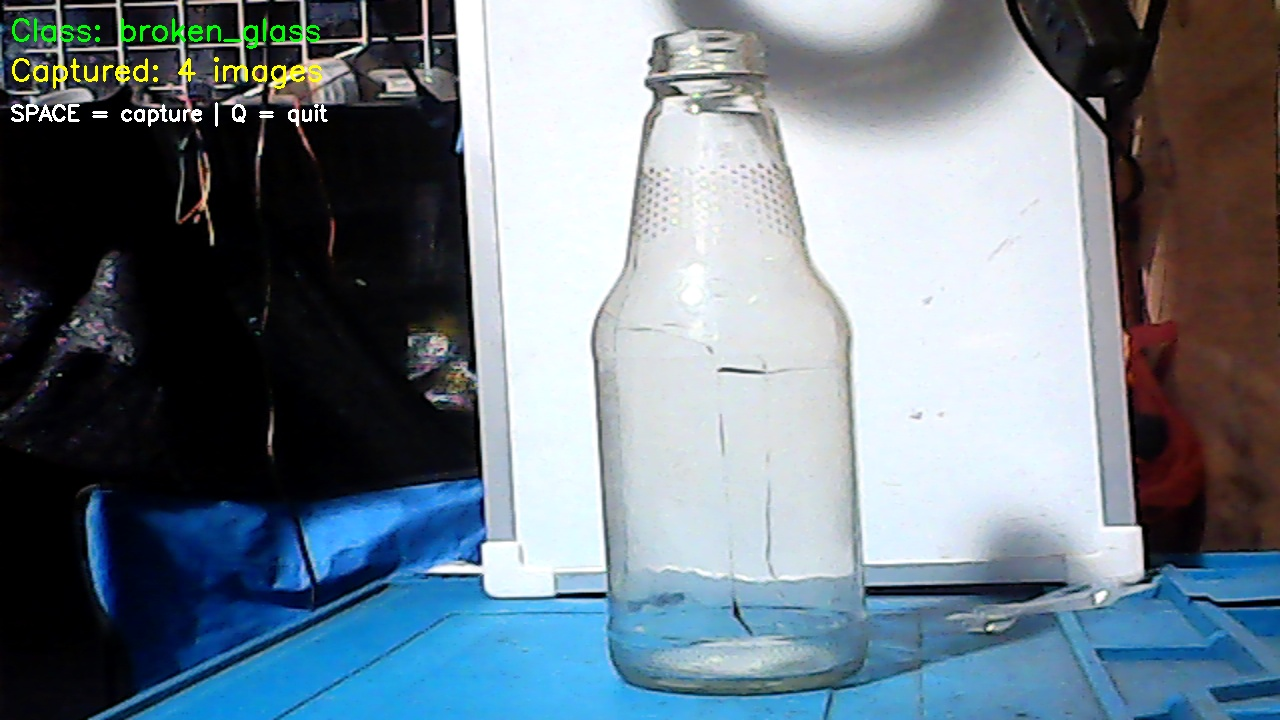broken_glass: (598, 25, 870, 692)
